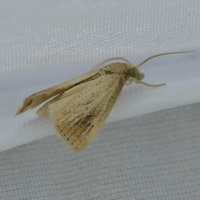insect: (16, 50, 192, 151)
